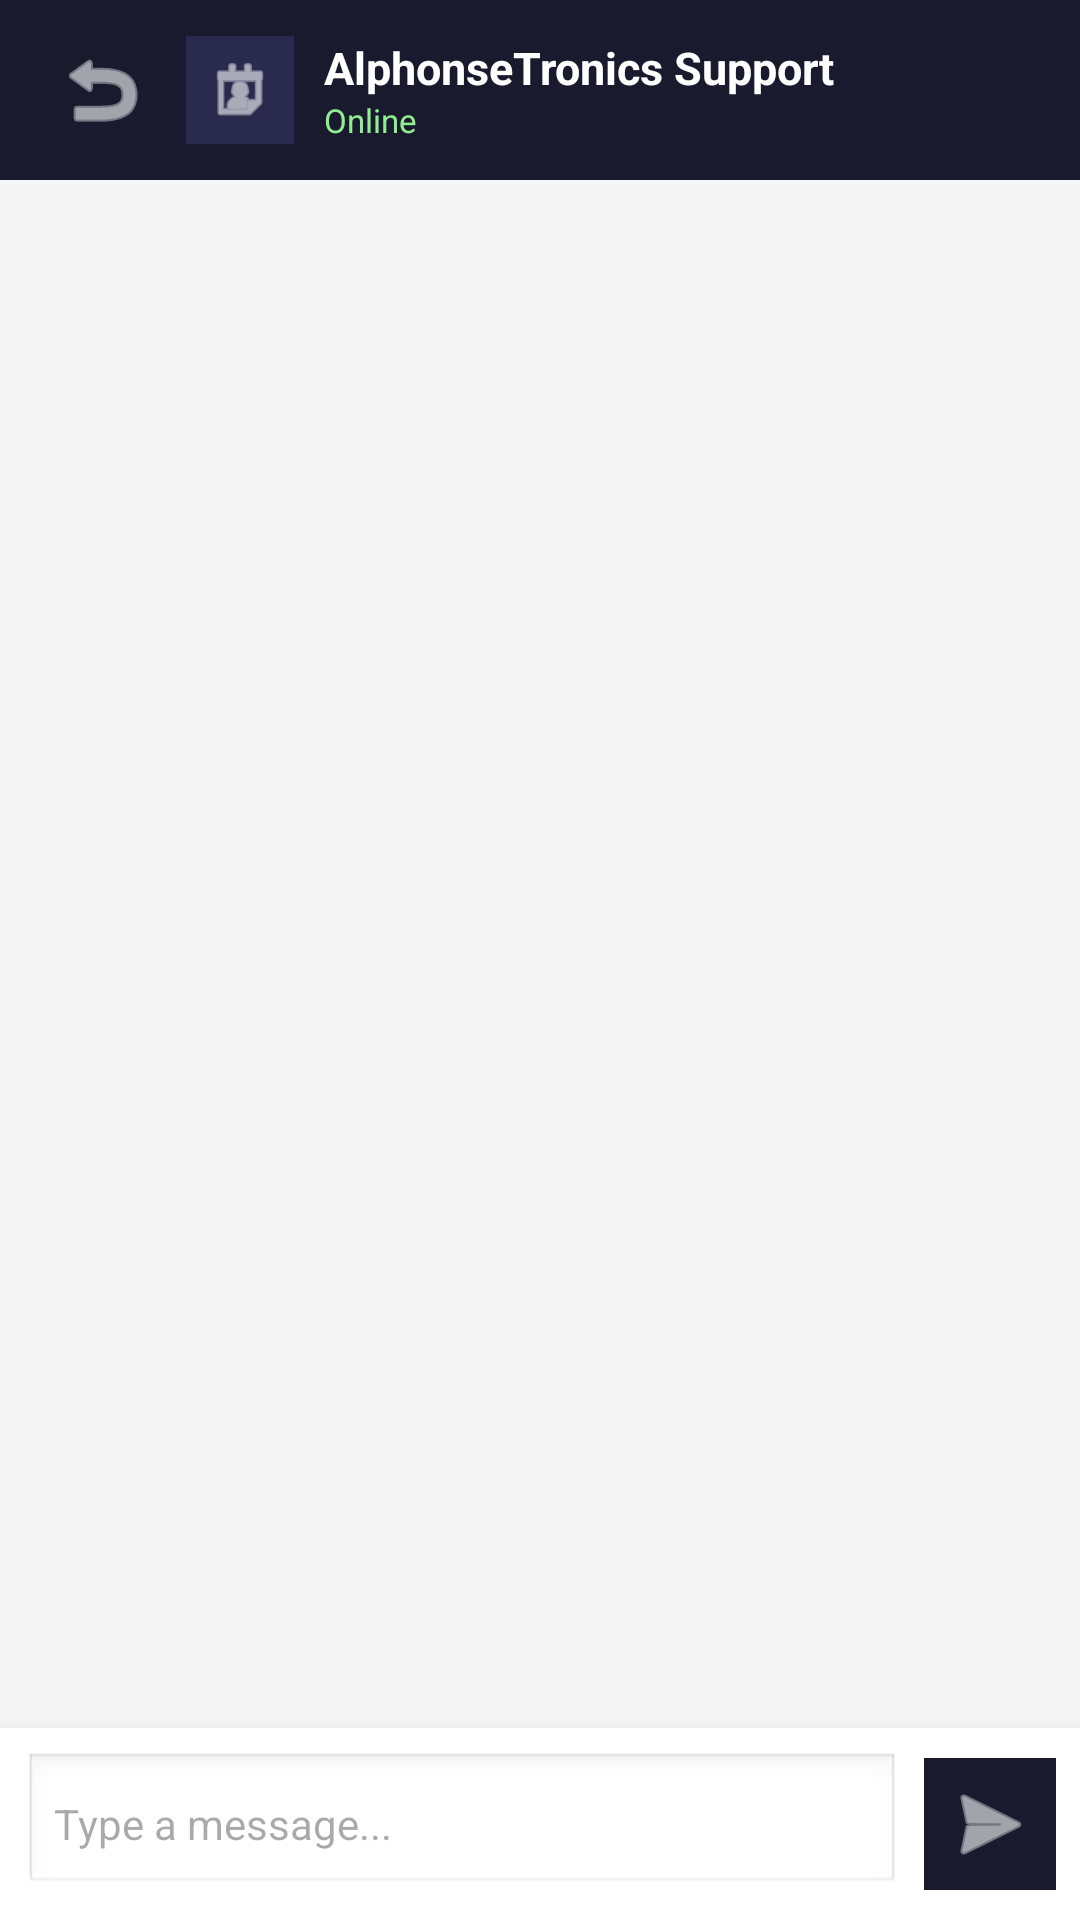

Icon bounding boxes for this 1080*1920 phone screenshot, format (x1, y1, x2, y2):
Back: (69, 59, 138, 122)
calendar: (186, 36, 294, 144)
Send: (924, 1758, 1056, 1890)
